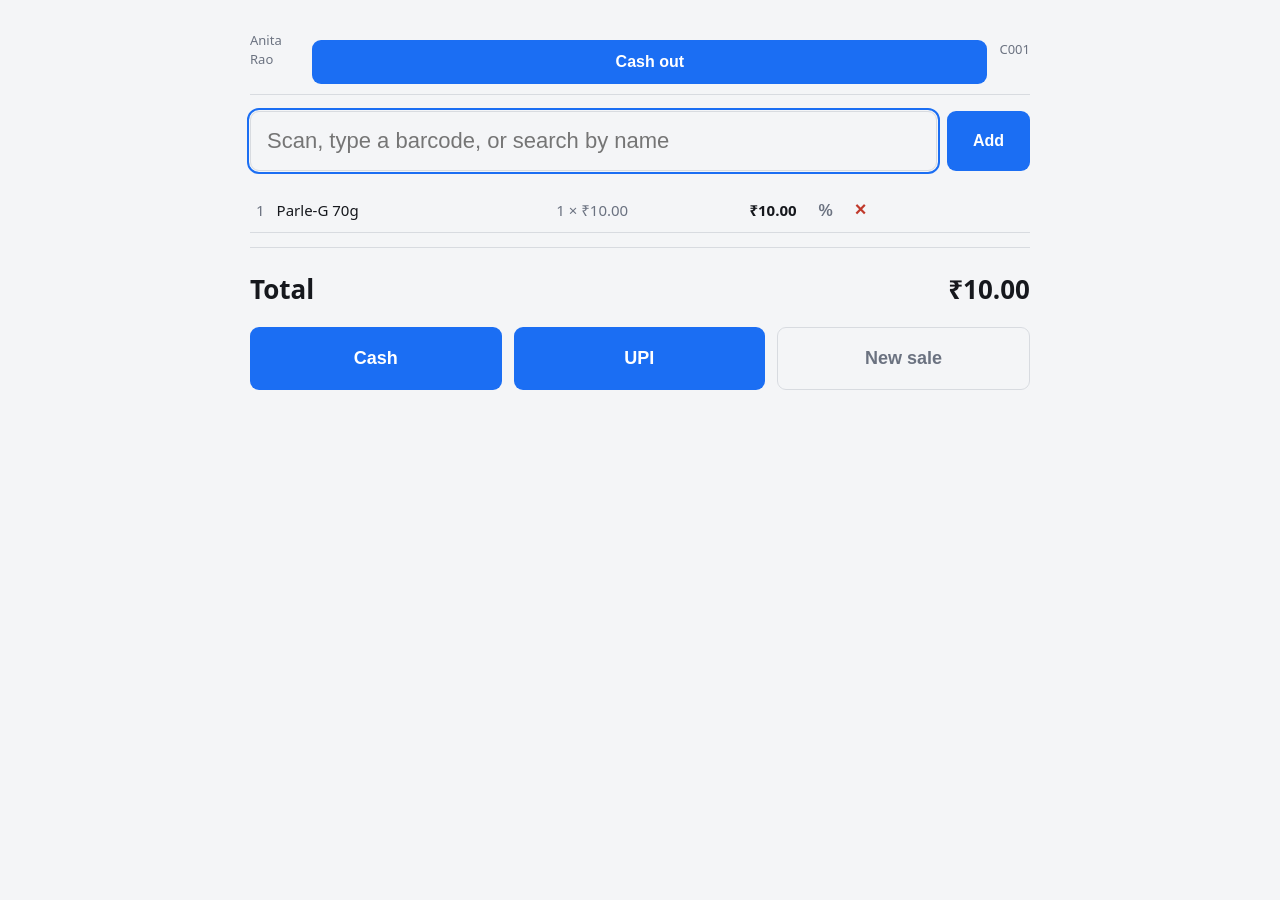
Test: a scanner is a keyboard › does not let a scan spend an attempt against the PIN
Check: the field with placeholder "Scan, type a barcode, or search by name" is shown, box 250,111 -> 937,171
Click the button named "discount line 1": (826, 211) 809,201 -> 843,221
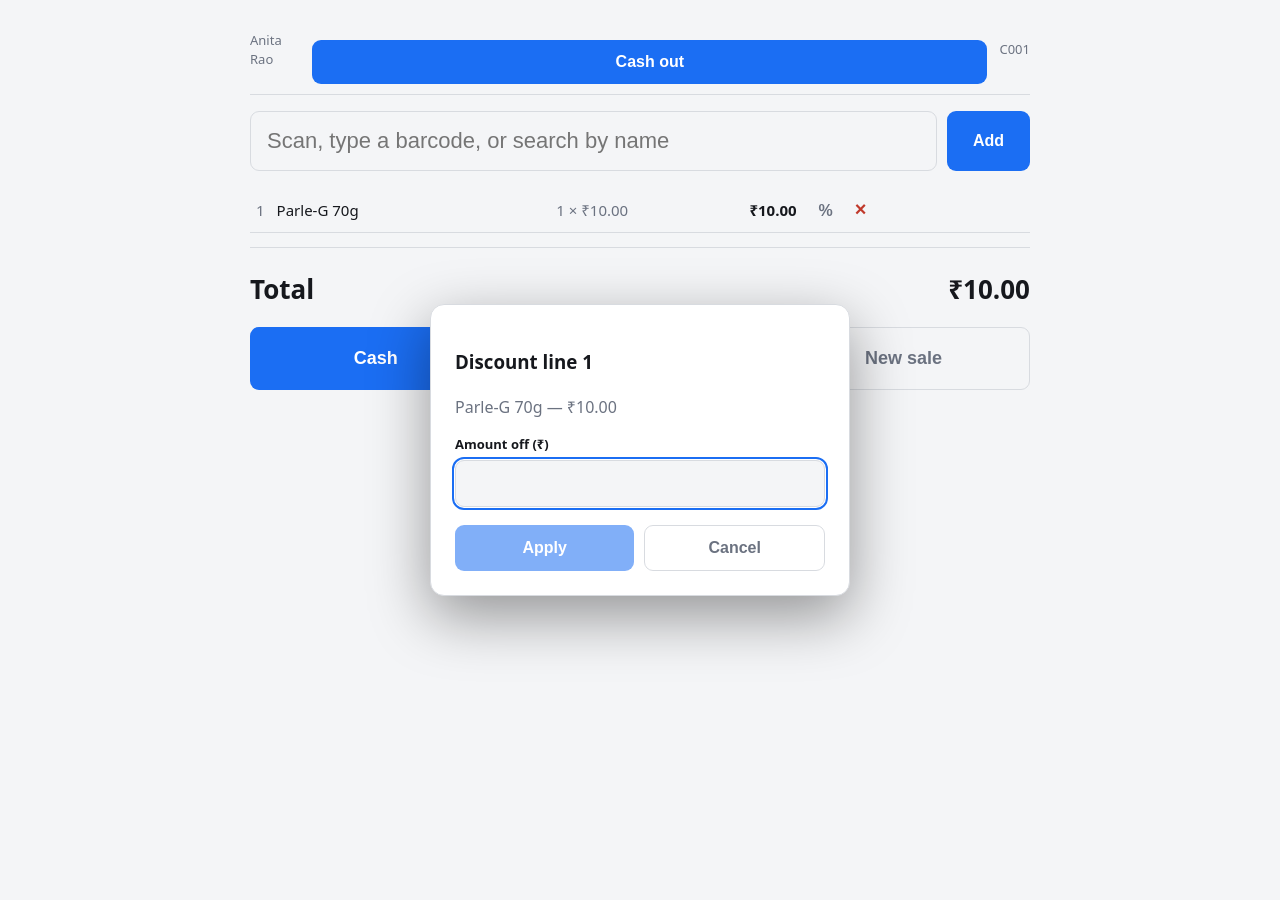
In the field labelled "Amount off (₹)": (640, 484) 455,460 -> 825,507, type "2"
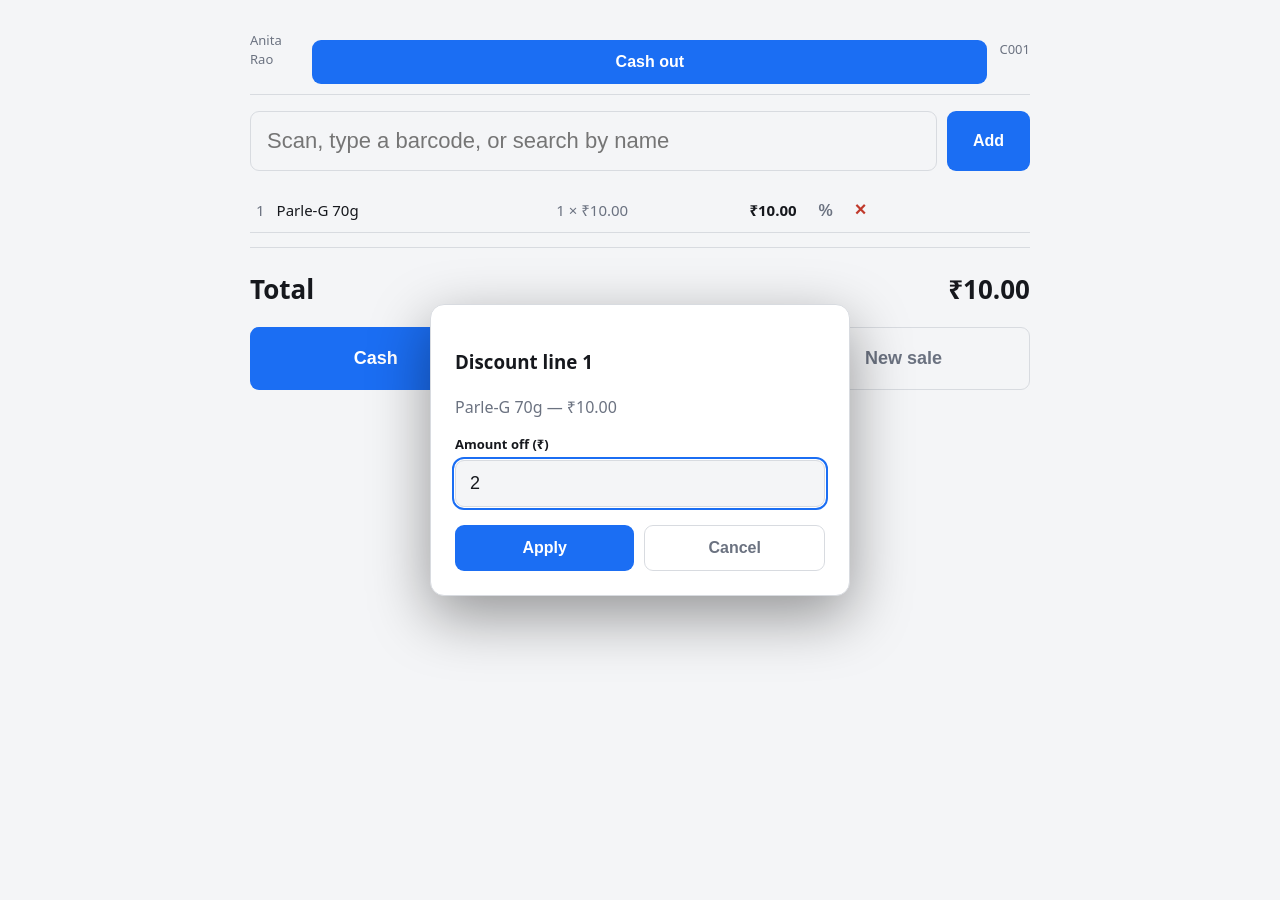
Click the button "Apply": (545, 548) 455,525 -> 634,571
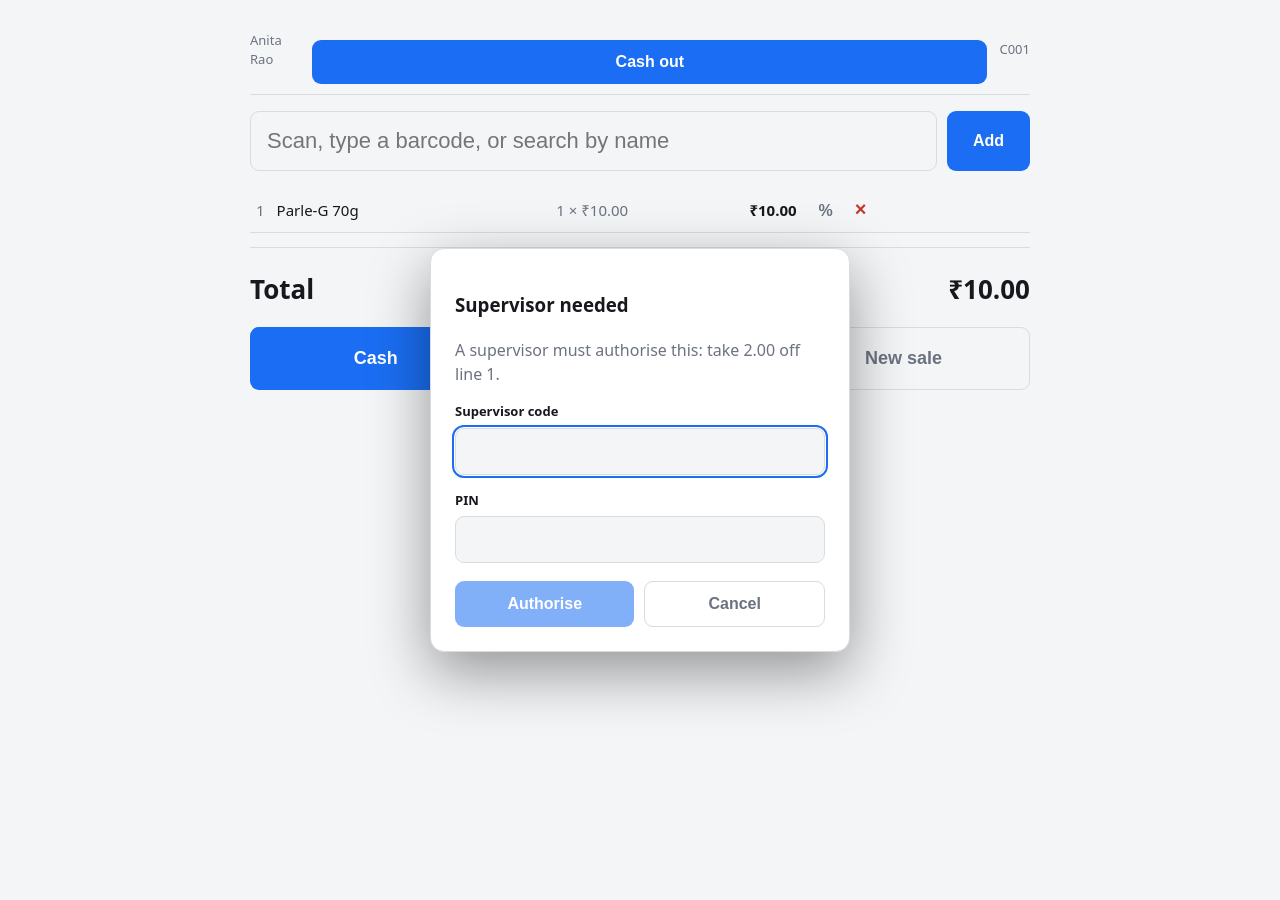
In the password field labelled "PIN": (640, 540) 455,516 -> 825,563, type "8901262010016"
Then press Enter
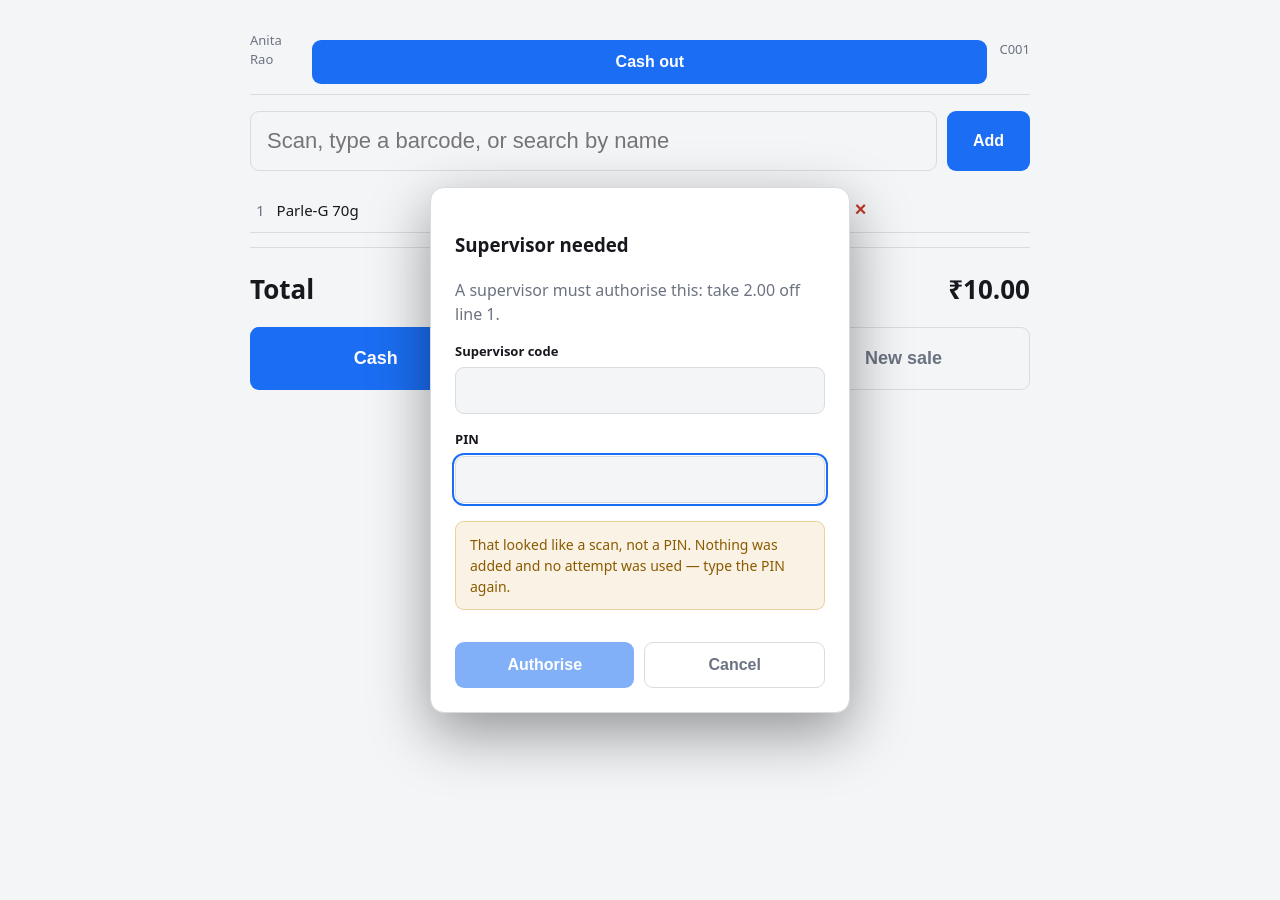
Check: the password field labelled "PIN" is empty, box 455,456 -> 825,503
Check: the text "looked like a scan" is shown, box 470,535 -> 785,596
